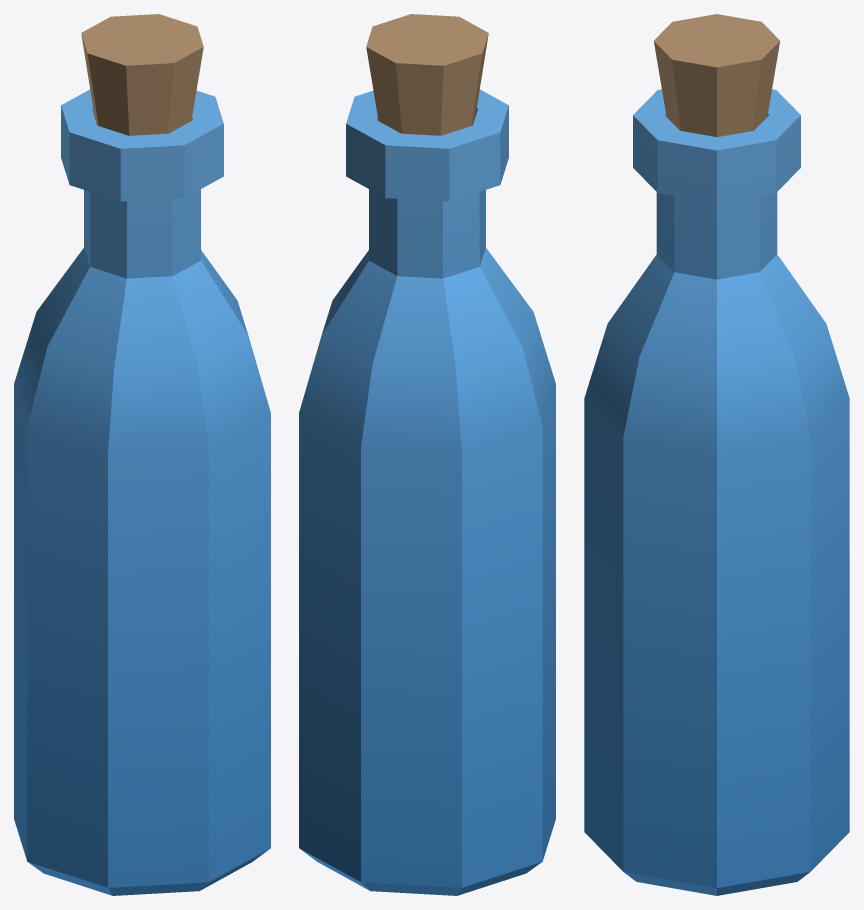
File: Bottle_11.fbx
3 renders of one model, left to right at view 1: azimuth 30°, elevation 25°; view 2: azimuth 150°, elevation 25°; view 3: azimuth 270°, elevation 25°, orthographic.
Visible parts, largest first — view 1: Bottle_11_LOD0; view 2: Bottle_11_LOD0; view 3: Bottle_11_LOD0.
Boxes of the visible parts, left/top/right/bottom form: Bottle_11_LOD0: left=14, top=14, right=270, bottom=895; Bottle_11_LOD0: left=299, top=14, right=555, bottom=895; Bottle_11_LOD0: left=584, top=14, right=849, bottom=895.
Size of what is drawn, in the model's own units: 0.0692 by 0.2323 by 0.0692.
